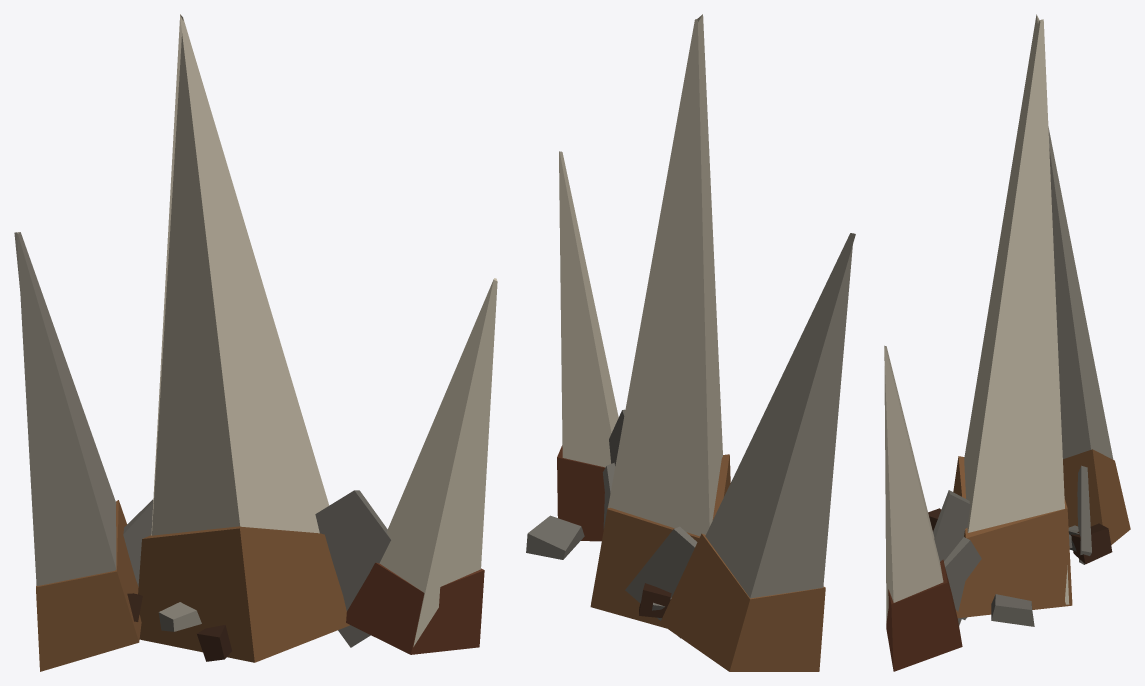
File: hull_shard.glb
3 renders of one model, left to right at view 1: azimuth 30°, elevation 25°; view 2: azimuth 150°, elevation 25°; view 3: azimuth 270°, elevation 25°, orthographic. The views are drawn at different scales.
Visible parts, largest first — view 1: hull_shard; view 2: hull_shard; view 3: hull_shard.
Part boxes in pixels (x1=…): hull_shard: x1=14, y1=14, x2=497, y2=671; hull_shard: x1=526, y1=14, x2=855, y2=671; hull_shard: x1=884, y1=14, x2=1130, y2=671.
Size of the model in its own units: 19.52 by 30.05 by 11.84.
